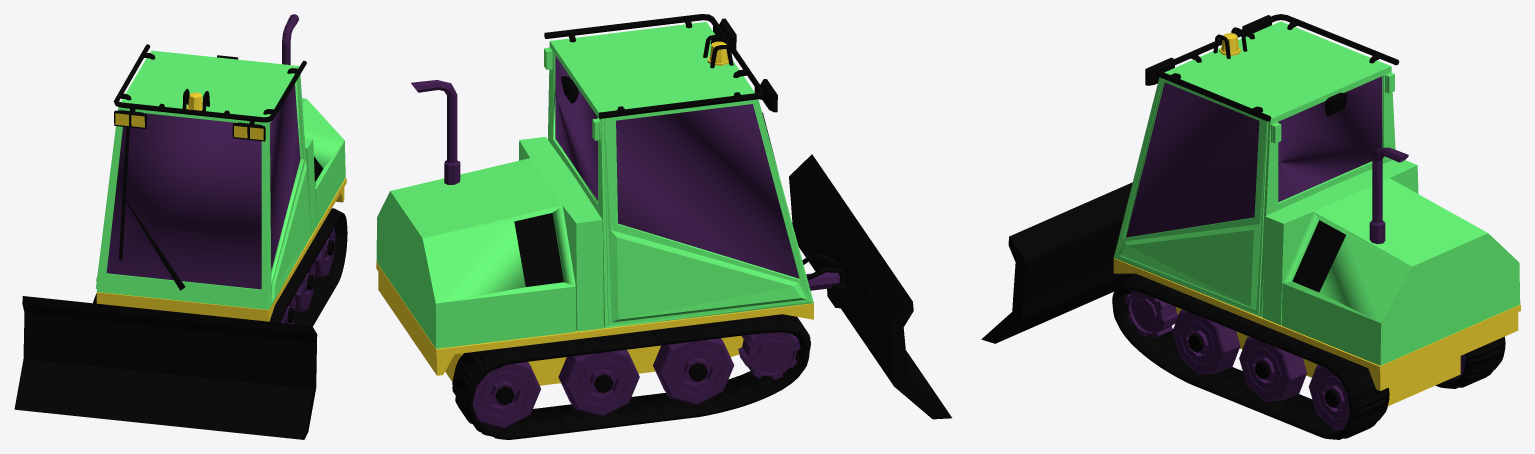
File: ToyObject_203.fbx
3 views of the same model, side by side, from view 1: azimuth 30°, elevation 25°; view 2: azimuth 150°, elevation 25°; view 3: azimuth 270°, elevation 25° (orthographic). The views are drawn at different scales.
Visible parts, largest first — view 1: 1.052; view 2: 1.052; view 3: 1.052.
Part boxes in pixels (box(x1,y1,x2,y2)): 1.052: box(14, 14, 347, 439); 1.052: box(376, 14, 951, 439); 1.052: box(981, 14, 1520, 439).
Size of the model in its own units: 0.2426 by 0.1547 by 0.246.
